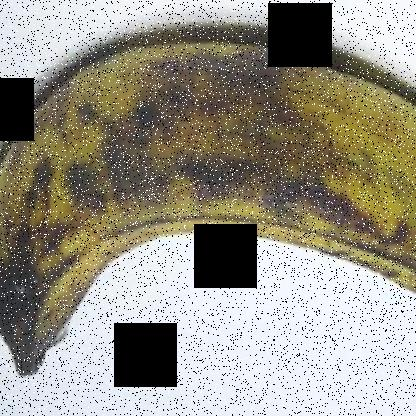overripe: (1, 1, 415, 389)
